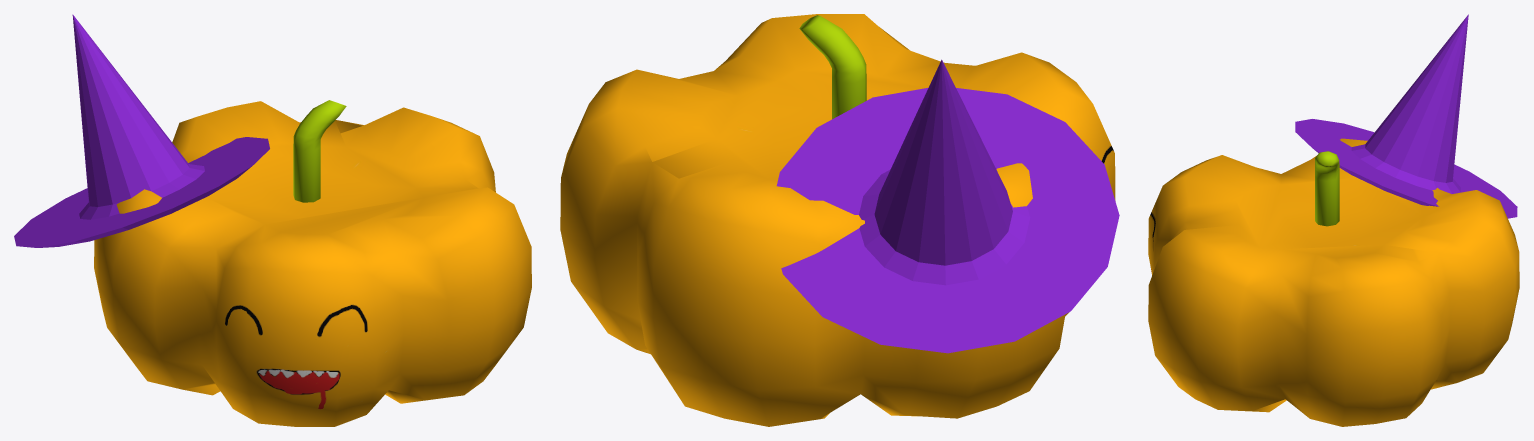
The model's file is jackun.fbx.
3 renders of one model, left to right at view 1: azimuth 30°, elevation 25°; view 2: azimuth 150°, elevation 25°; view 3: azimuth 270°, elevation 25°, orthographic. The views are drawn at different scales.
Visible parts, largest first — view 1: Cylinder; view 2: Cylinder; view 3: Cylinder.
Part boxes in pixels (x1,y1,x2,y2): Cylinder: (14,14,531,426); Cylinder: (560,14,1119,426); Cylinder: (1148,14,1519,426).
Bounding box in the file's own units: 303 × 219 × 256.
